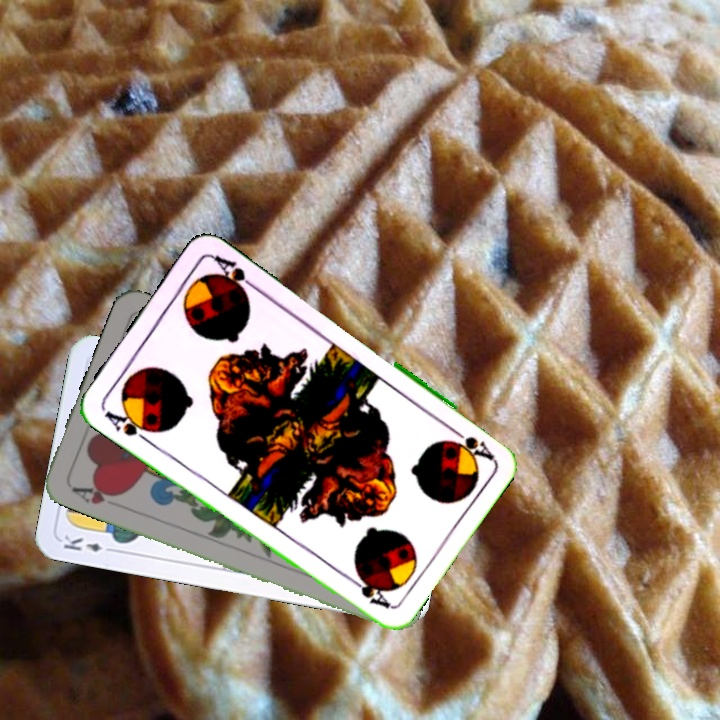EK: (59, 531, 118, 555)
HA: (67, 480, 124, 507)
SA: (100, 406, 157, 445), (444, 422, 496, 463)
